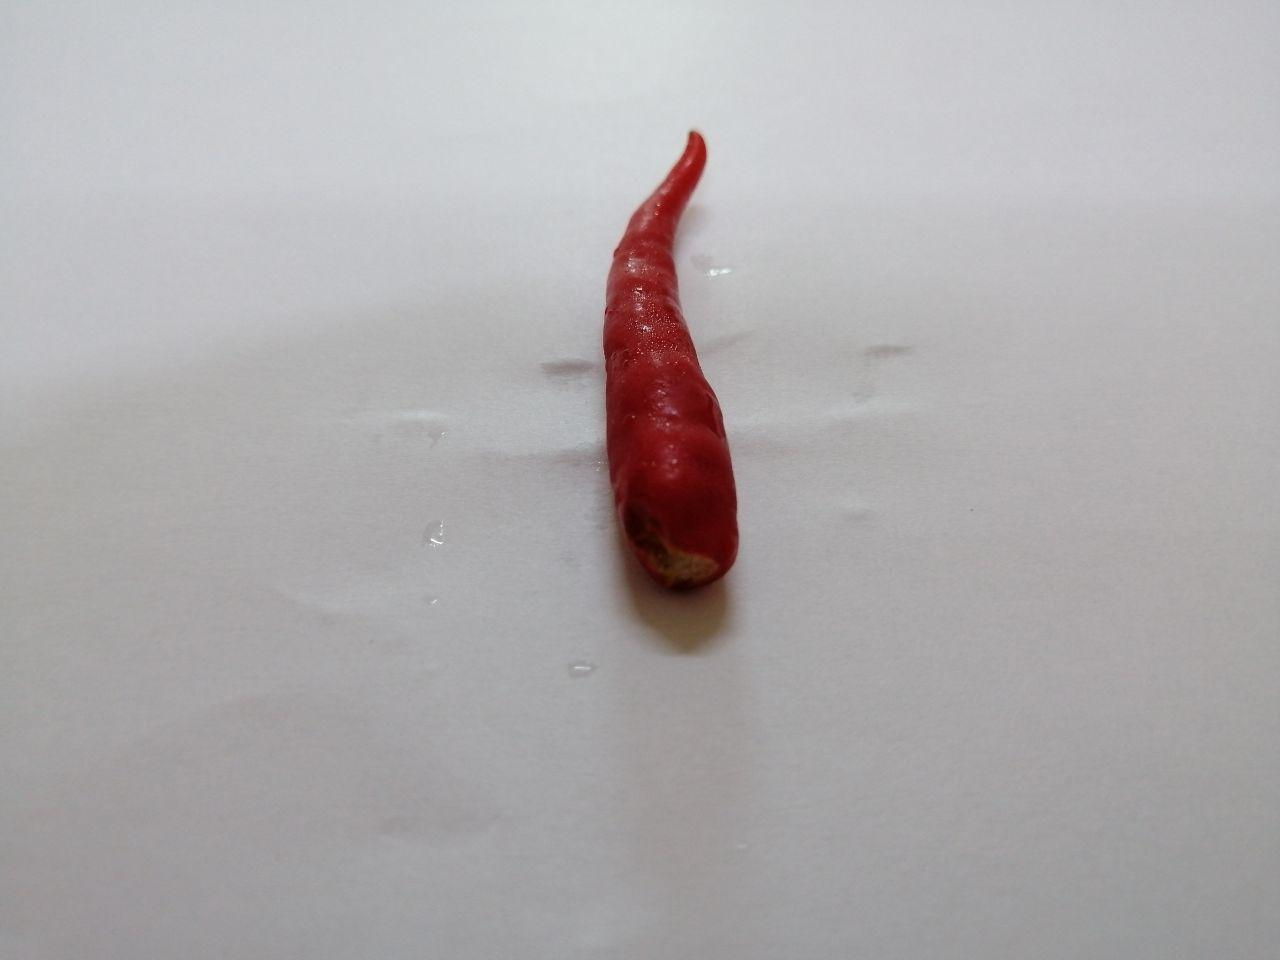lada merah: (588, 115, 777, 608)
